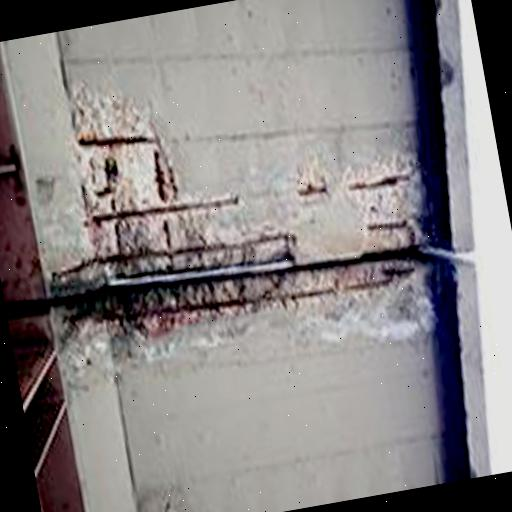spalling: (66, 81, 428, 352)
